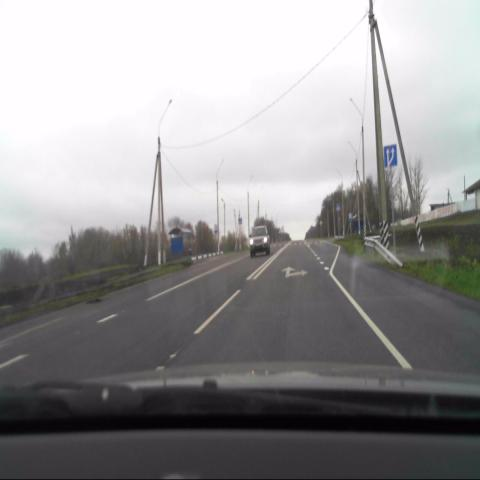5_15_3: (384, 145, 398, 166)
